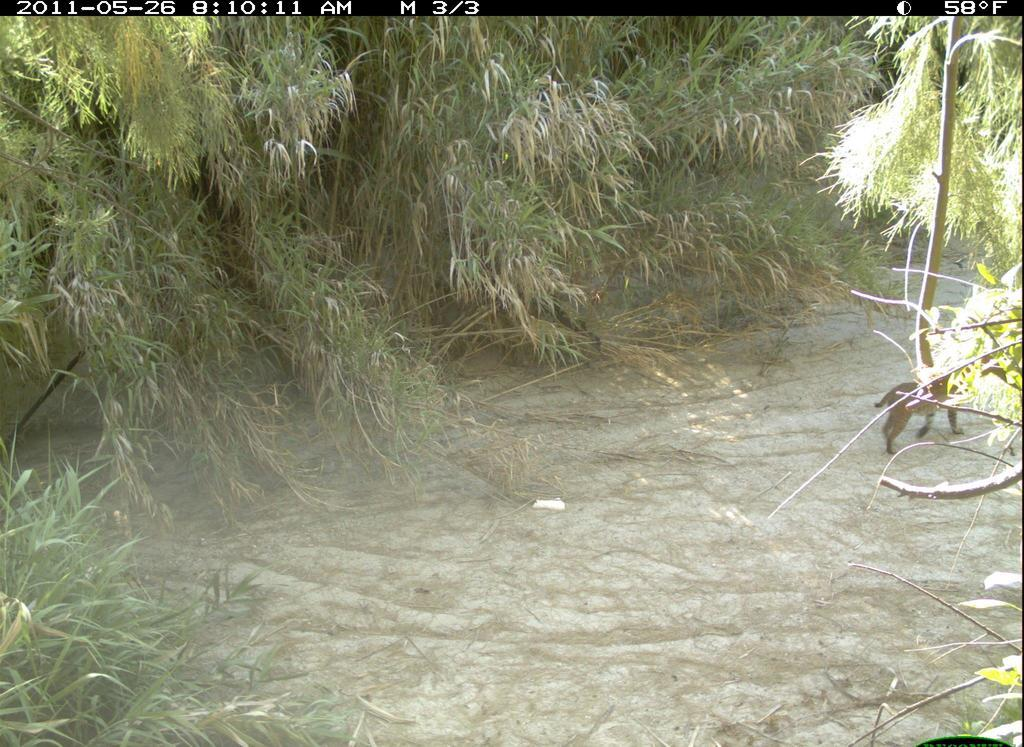bobcat: (870, 358, 991, 454)
